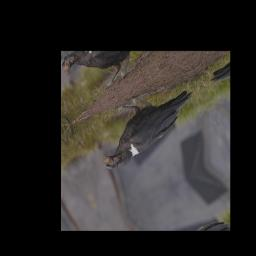Crow: (85, 64, 205, 178)
